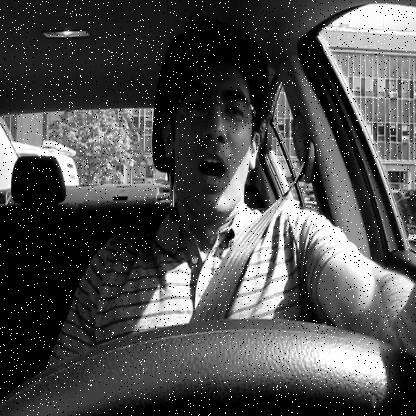seatbelt: (141, 0, 308, 333)
